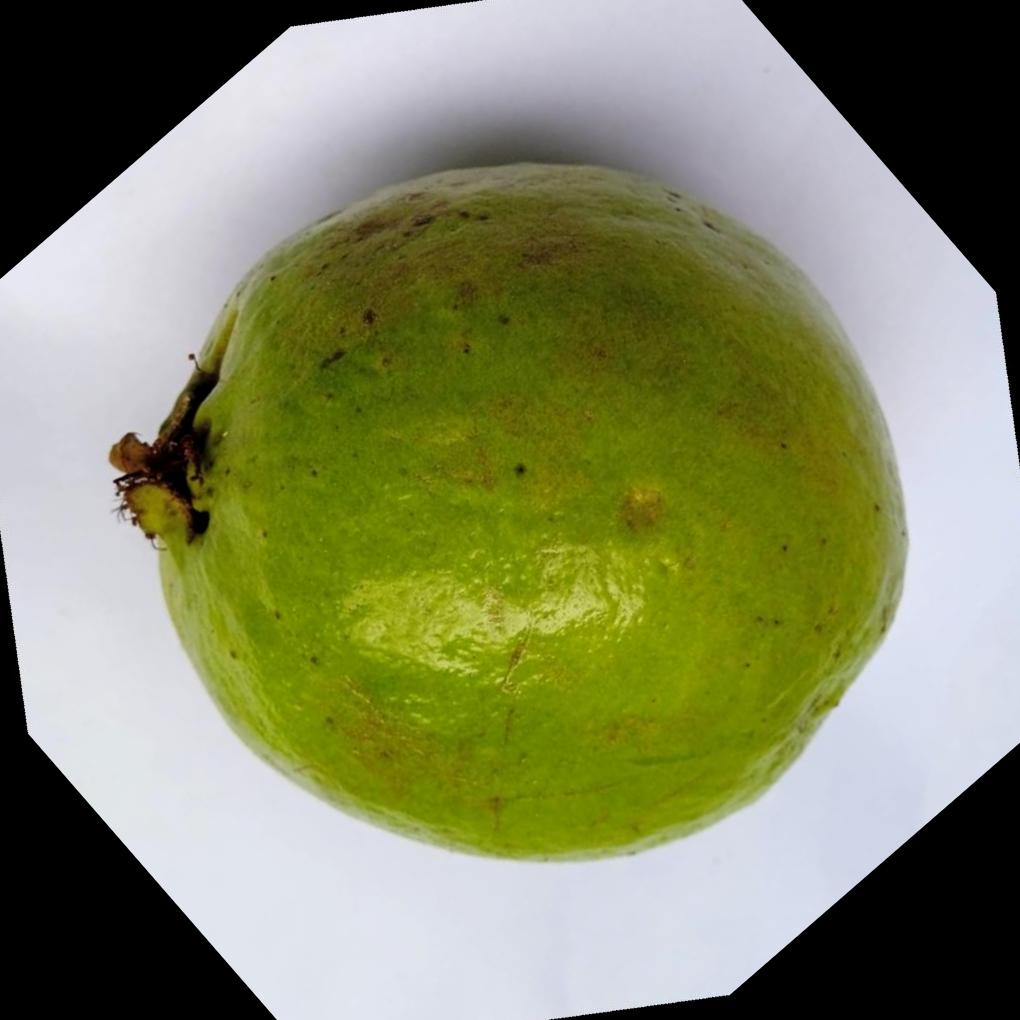FreshGuava: (108, 156, 914, 862)
